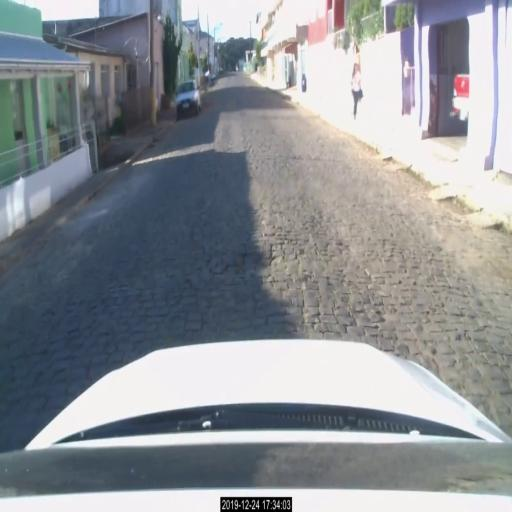Pothole: (187, 249, 301, 291)
